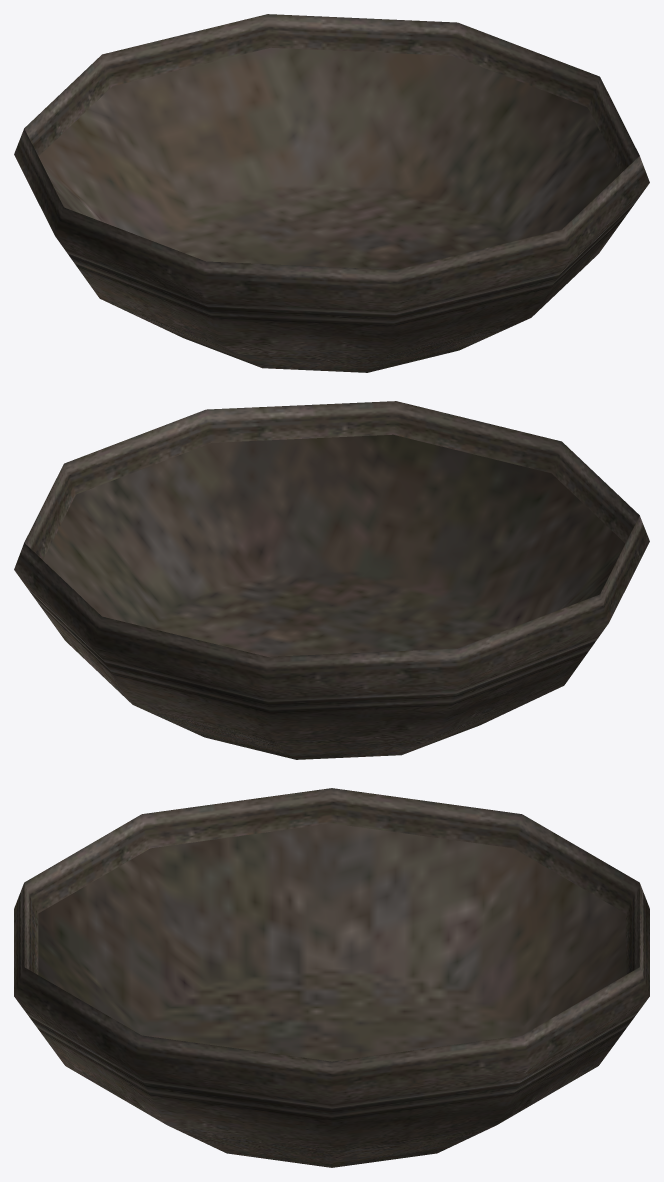
File: edb_con_tato_bowl_empty_s01_l0.fbx
3 views of the same model, one above another, from view 1: azimuth 30°, elevation 25°; view 2: azimuth 150°, elevation 25°; view 3: azimuth 270°, elevation 25° (orthographic). The views are drawn at different scales.
Parts seen in each view (by area): view 1: mesh_node; view 2: mesh_node; view 3: mesh_node.
Boxes of the visible parts, <box> form: mesh_node: <box>14,14,649,372</box>; mesh_node: <box>14,401,649,759</box>; mesh_node: <box>14,788,649,1167</box>.
Bounding box in the file's own units: 0.5643 × 0.1559 × 0.5367.
